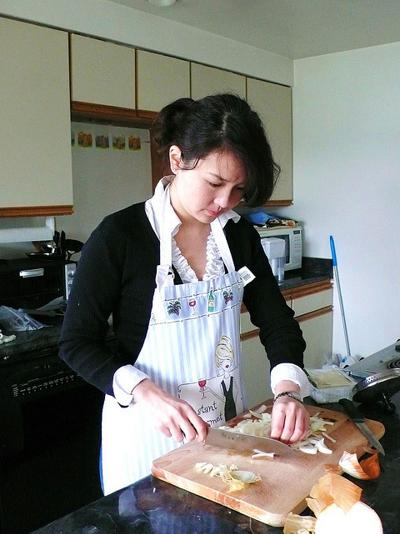person: (55, 93, 312, 502)
